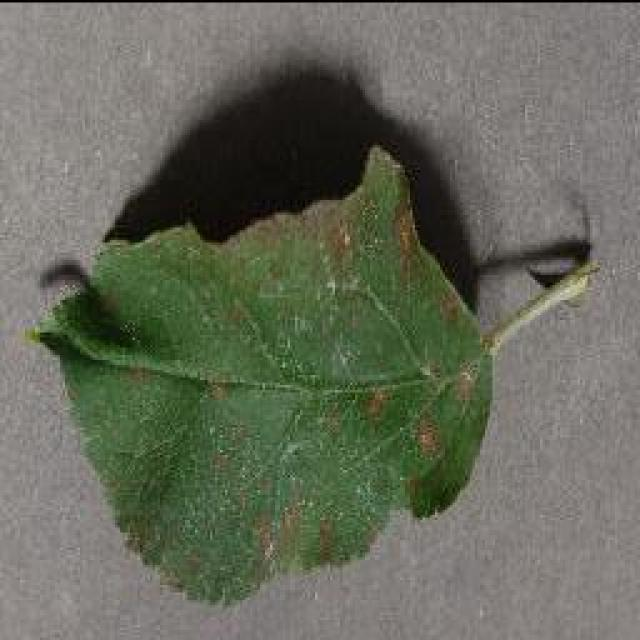apple scab disease: (28, 60, 598, 608)
